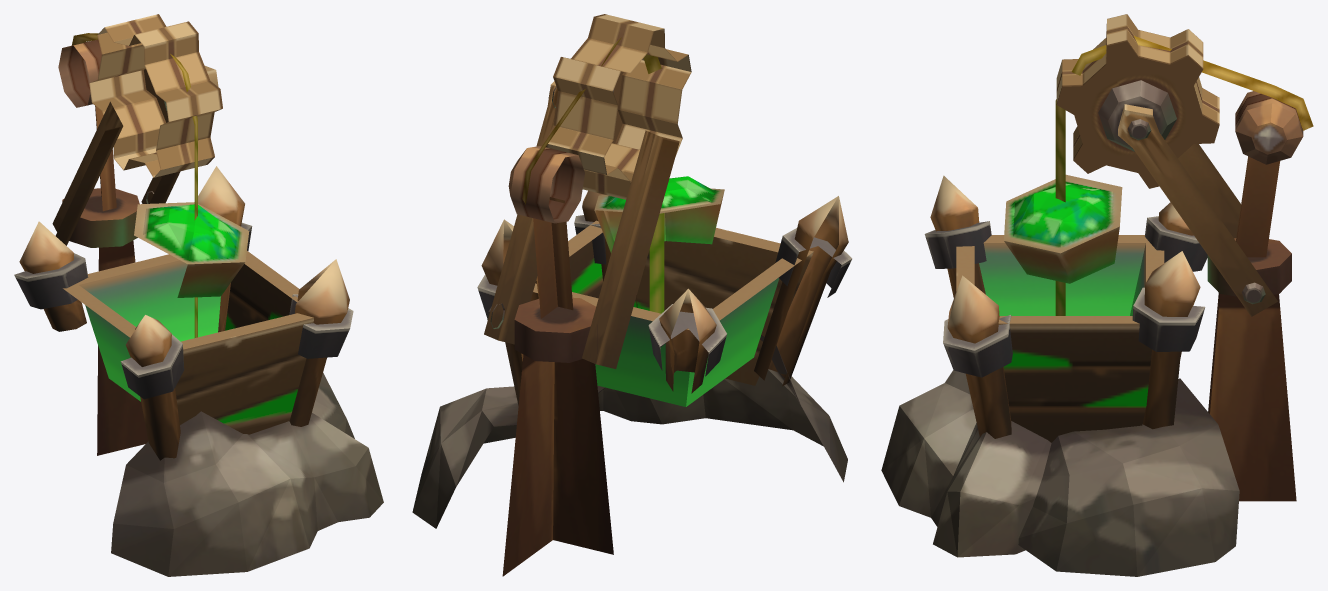
Rendered from B_ManaStonemine01.fbx.
3 views of the same model, side by side, from view 1: azimuth 30°, elevation 25°; view 2: azimuth 150°, elevation 25°; view 3: azimuth 270°, elevation 25° (orthographic). The views are drawn at different scales.
Parts seen in each view (by area): view 1: B_ManaStonemine01_01; view 2: B_ManaStonemine01_01; view 3: B_ManaStonemine01_01.
Part boxes in pixels (<box>): B_ManaStonemine01_01: <box>14,14,383,576</box>; B_ManaStonemine01_01: <box>412,14,852,576</box>; B_ManaStonemine01_01: <box>881,14,1313,576</box>.
Bounding box in the file's own units: 3.08 × 4.34 × 3.69.
Materials: 1 (1 with a texture image).
